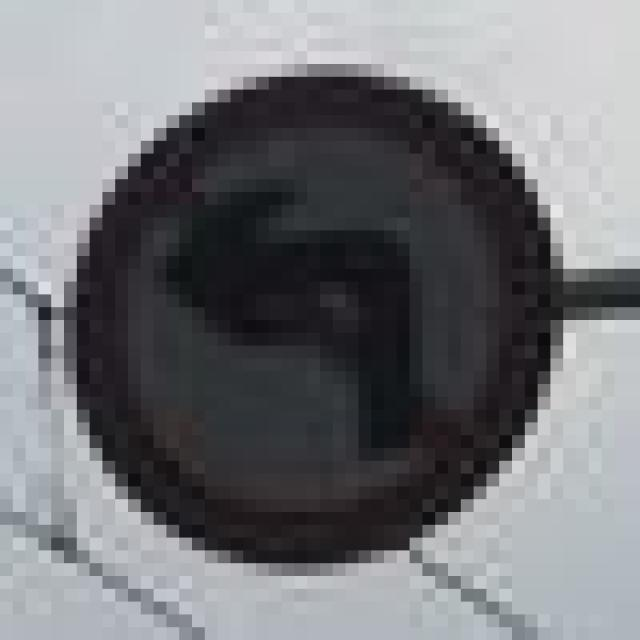left turn prohibited: (59, 68, 565, 574)
